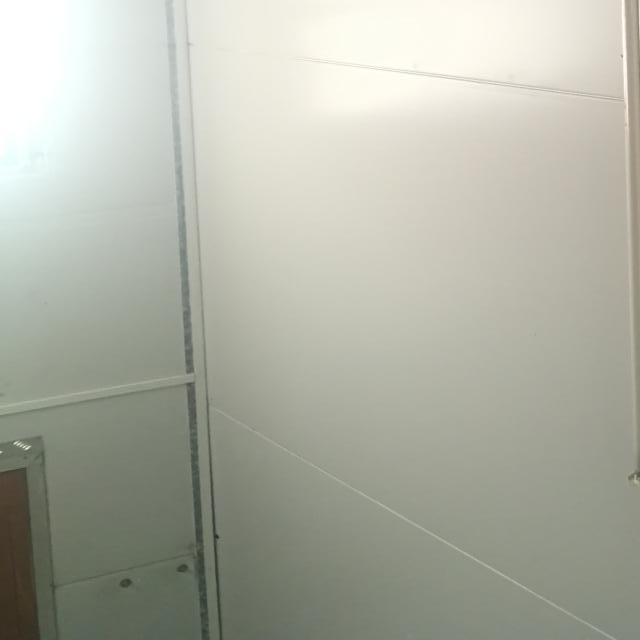fluorescent tube: (579, 0, 640, 513)
